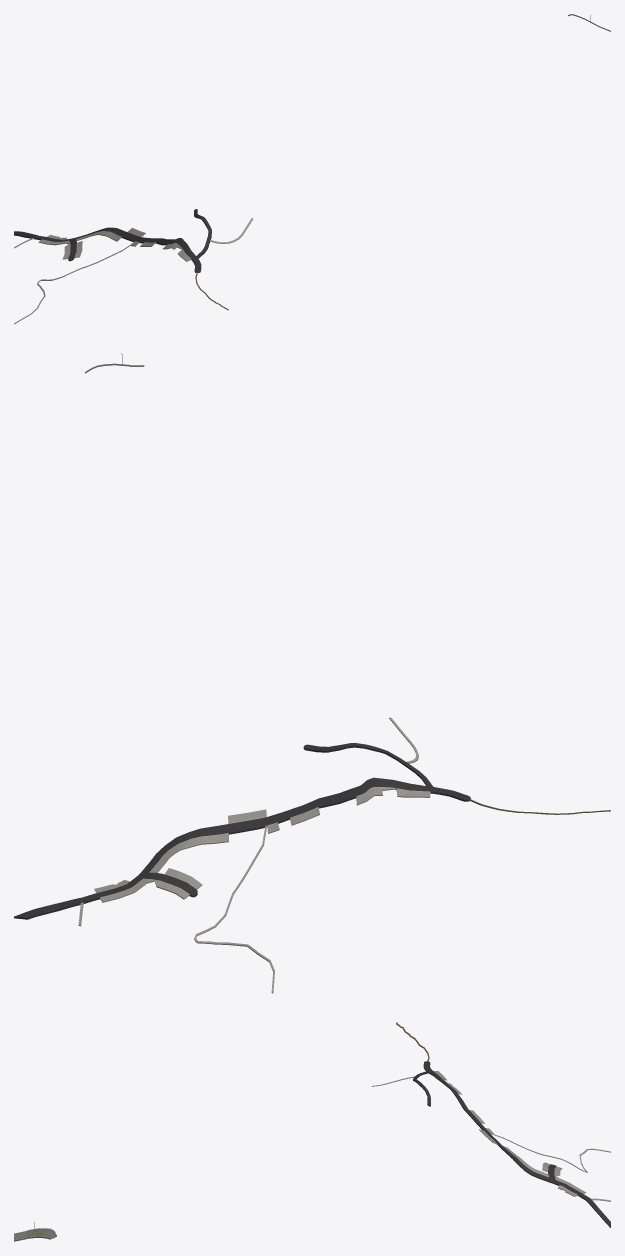
The picture shows the model from 3 angles, top to bottom: view 1: azimuth 90°, elevation 25°; view 2: azimuth 150°, elevation 25°; view 3: azimuth 270°, elevation 25°; orthographic projection. The views are drawn at different scales.
Bounding box in the file's own units: 588 × 129 × 583.
